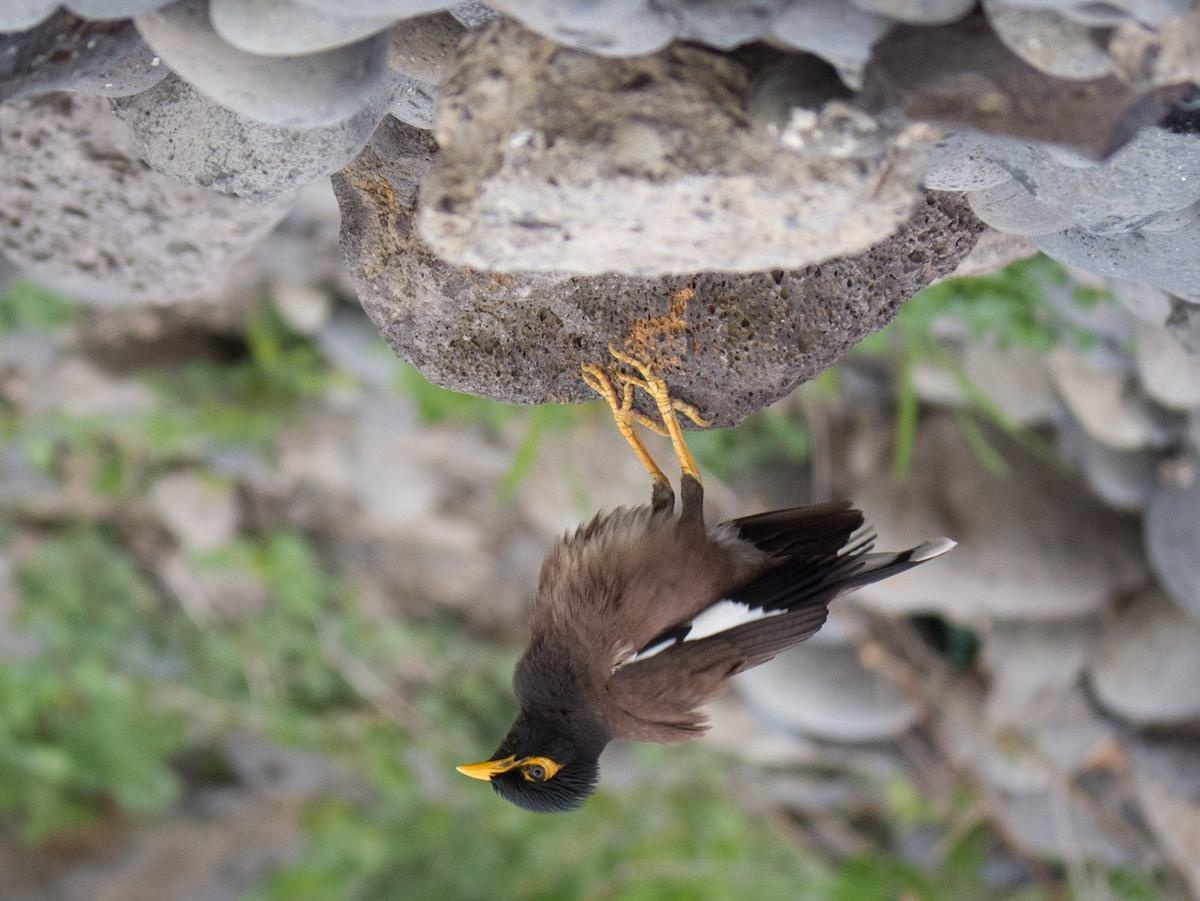myna: (474, 433, 884, 812)
